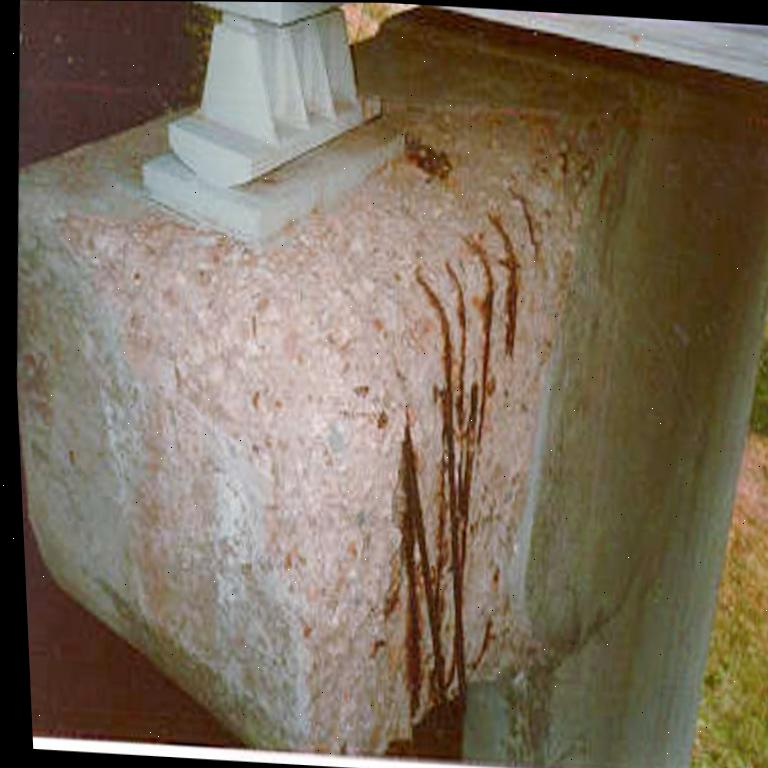exposed_rebar: (399, 240, 495, 723), (489, 214, 519, 357)
spalling: (66, 106, 608, 752)
